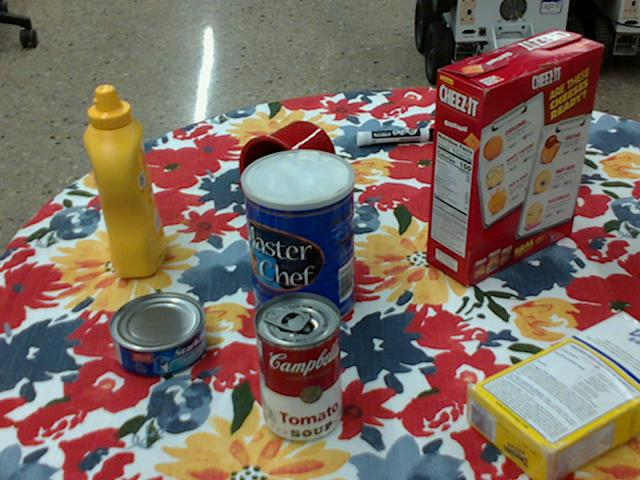cracker_box: (430, 31, 603, 286)
gelatin_box: (511, 132, 581, 189)
large_marker: (356, 125, 449, 144)
master_chef_can: (240, 149, 353, 331)
mug: (237, 120, 334, 214)
mustard_bottle: (84, 87, 167, 279)
sugar_box: (467, 310, 639, 479)
tomato_soup_can: (252, 292, 341, 442)
tuna_fish_can: (108, 291, 206, 375)
